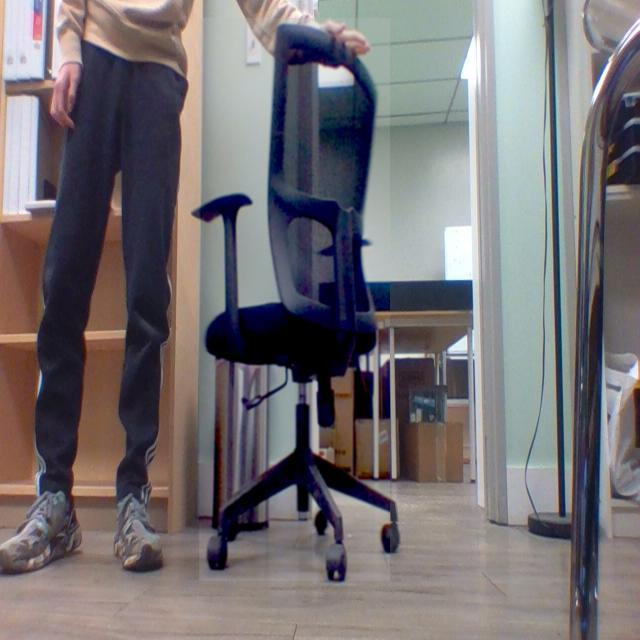chair: (188, 23, 411, 583)
